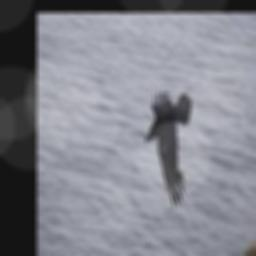Crow: (144, 89, 192, 207)
